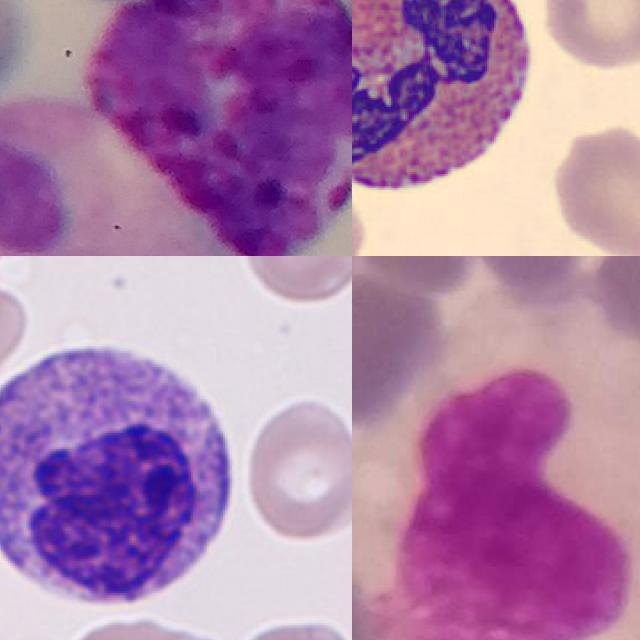Basophil: (92, 0, 352, 256)
Eosinophil: (352, 0, 547, 207)
Lymphocyte: (0, 326, 246, 621)
Monocyte: (370, 357, 640, 640)
Neutrophil: (0, 93, 261, 256)
RBC: (242, 390, 352, 543), (545, 121, 640, 256), (538, 0, 640, 71), (239, 256, 352, 306), (56, 610, 226, 640), (0, 280, 33, 417)
